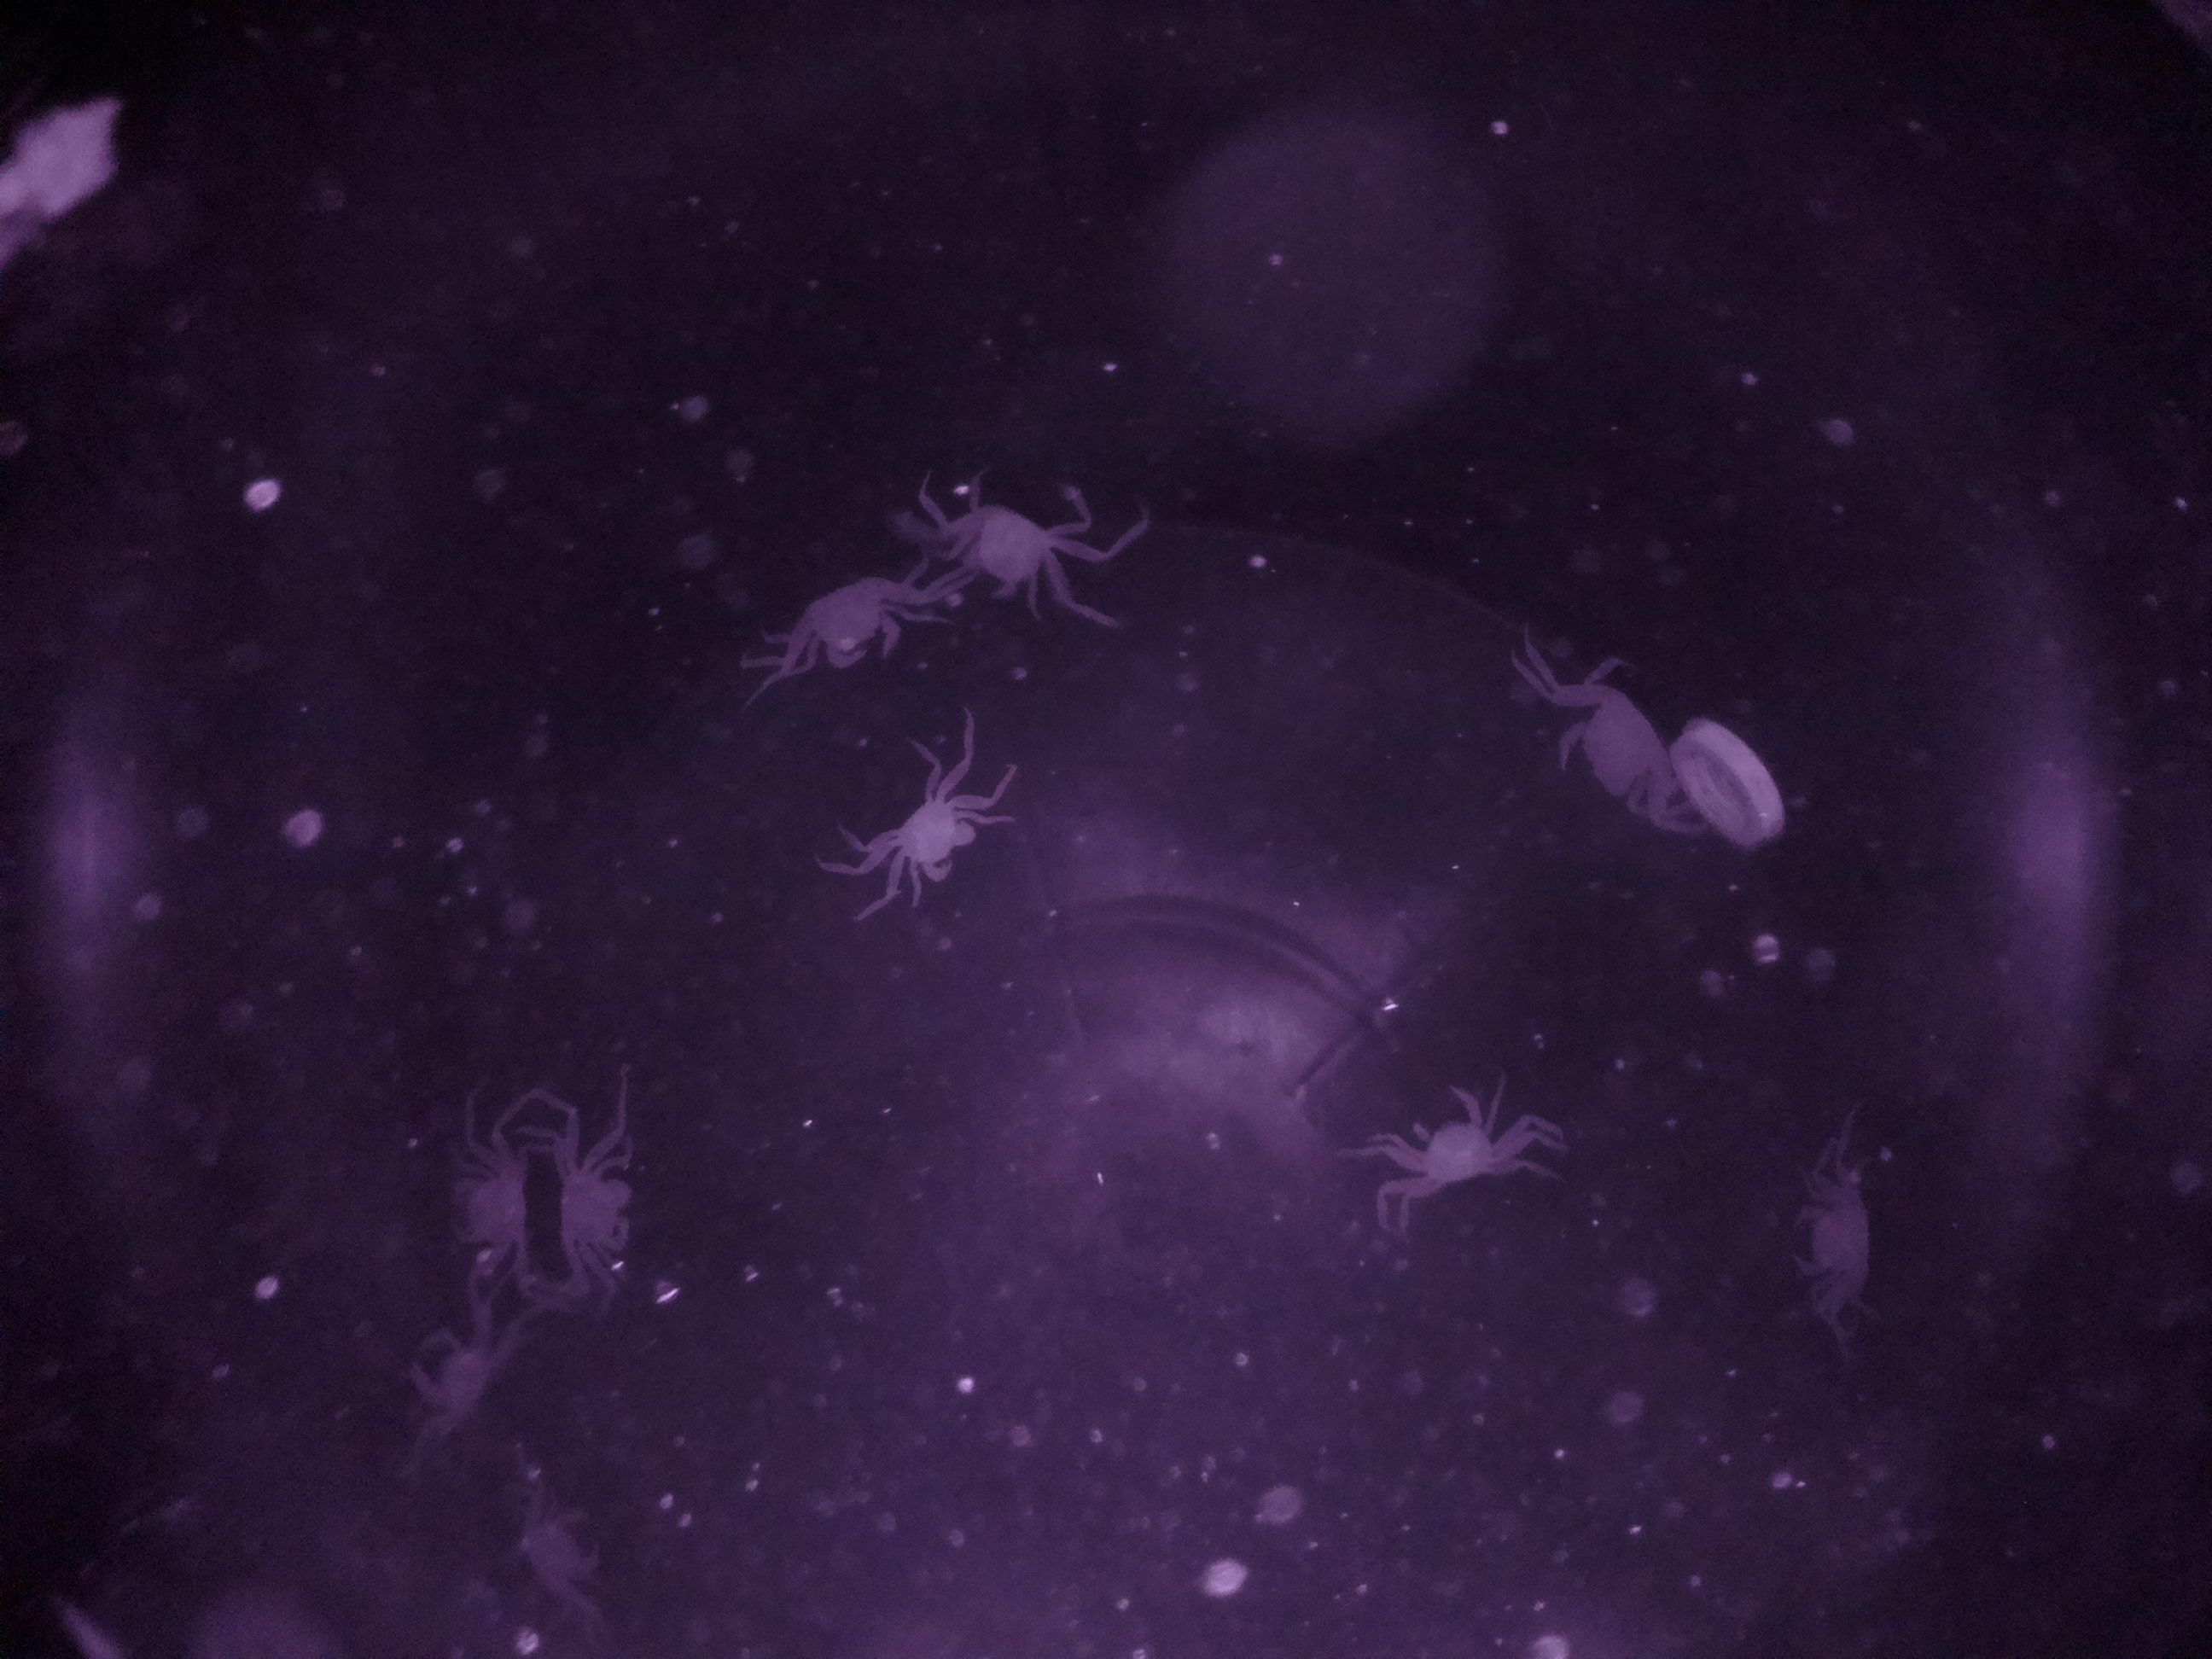Crab: (937, 476, 1075, 652), (542, 1108, 664, 1303), (772, 558, 921, 716), (1395, 1065, 1527, 1237), (848, 751, 995, 906)
